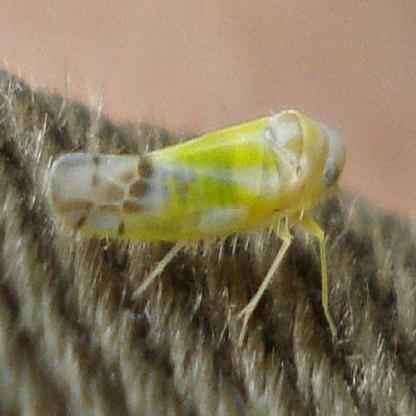green-leafhopper: (51, 112, 348, 244)
